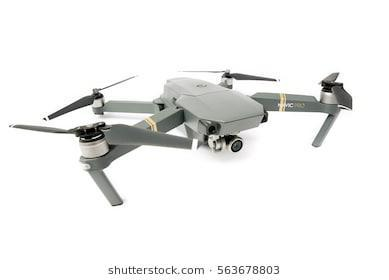drone: (5, 53, 367, 198)
